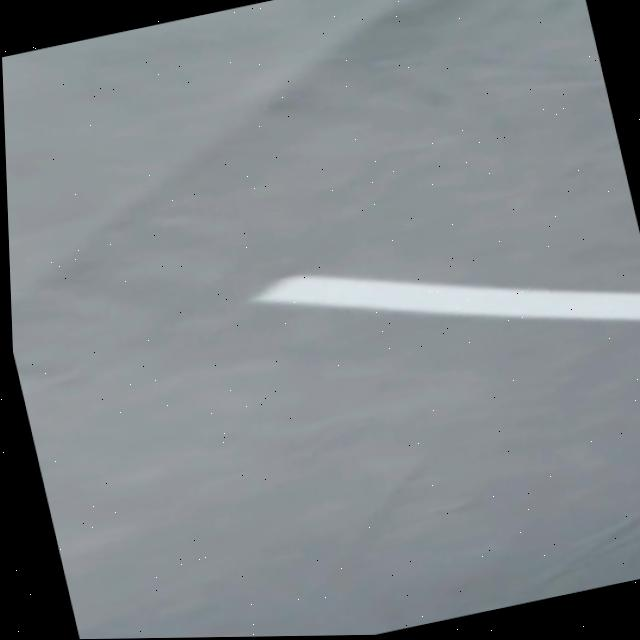center: (252, 274, 640, 318)
